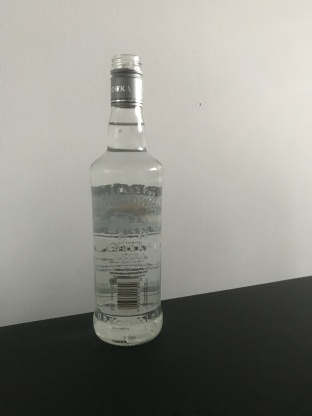nakretka: (108, 52, 144, 109)
